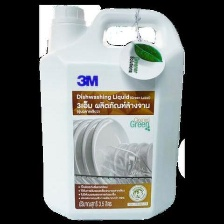cleaning_solution: (35, 2, 187, 223)
